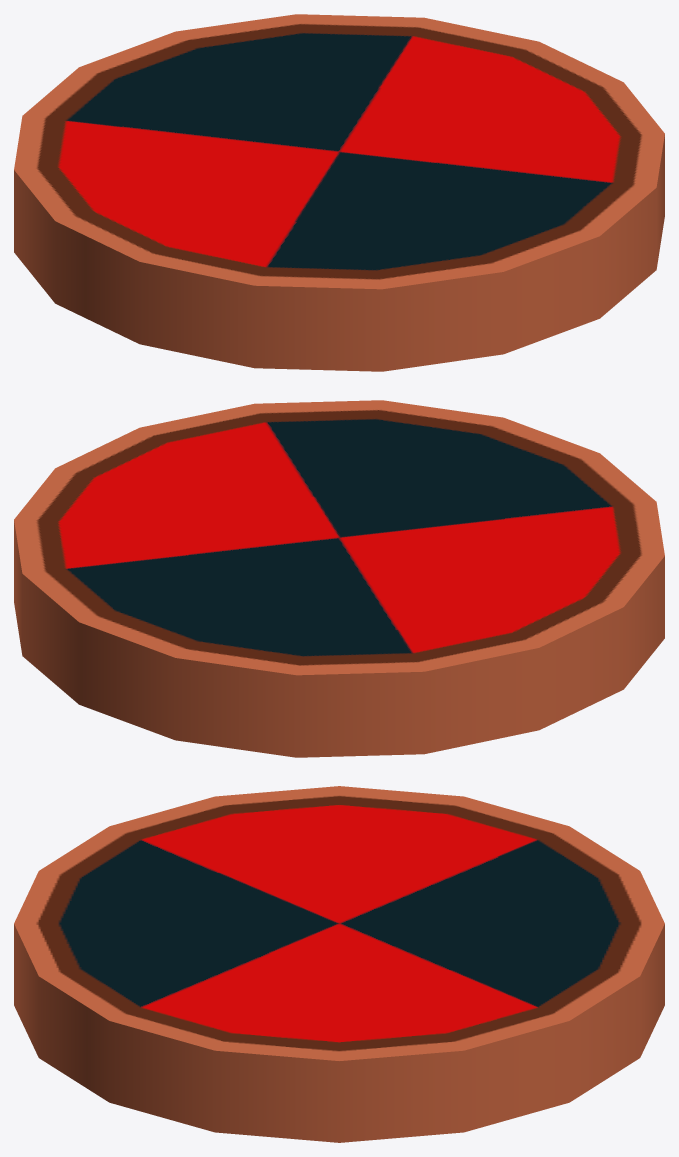
File: puzzle1_btn5_bottom.fbx
3 views of the same model, one above another, from view 1: azimuth 30°, elevation 25°; view 2: azimuth 150°, elevation 25°; view 3: azimuth 270°, elevation 25° (orthographic).
Parts seen in each view (by area): view 1: levelBottom; view 2: levelBottom; view 3: levelBottom.
Part boxes in pixels (bbox=[...]): levelBottom: bbox=[14, 14, 664, 371]; levelBottom: bbox=[14, 400, 664, 757]; levelBottom: bbox=[14, 786, 664, 1142].
Size of the model in its own units: 2.93 by 0.4059 by 2.93.
